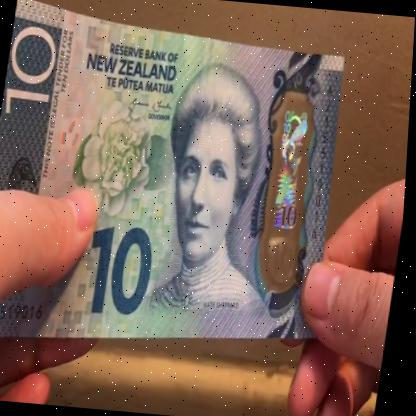10B: (259, 100, 320, 284)
